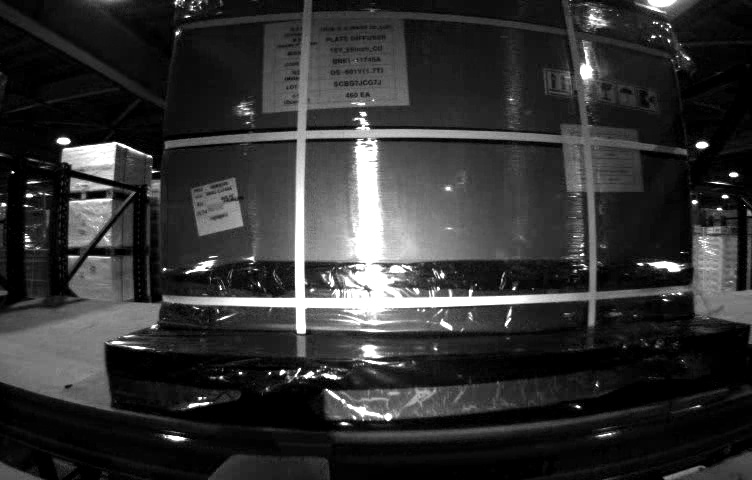True Barcode: (189, 177, 244, 239)
